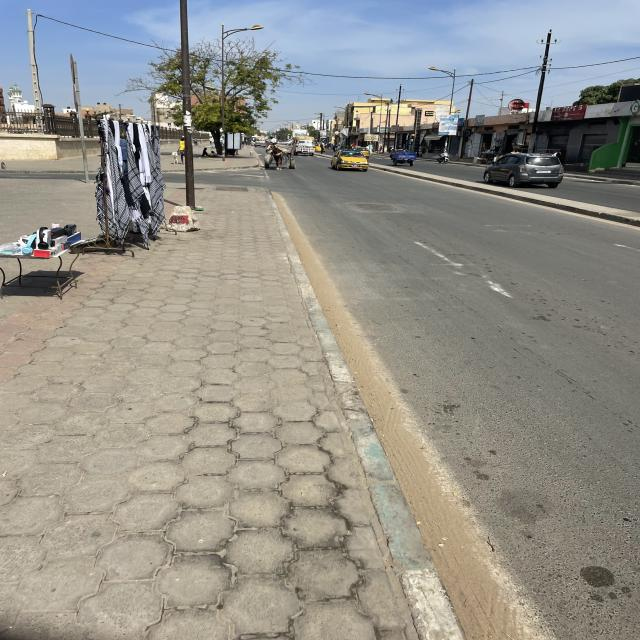car rapide: (294, 137, 316, 157), (256, 140, 266, 147)
charette: (264, 141, 296, 171)
moto: (436, 151, 451, 165)
moto tricycle: (391, 151, 418, 167)
particulier: (484, 154, 564, 190)
taxi: (331, 151, 369, 172), (353, 147, 371, 159), (316, 144, 326, 154)
